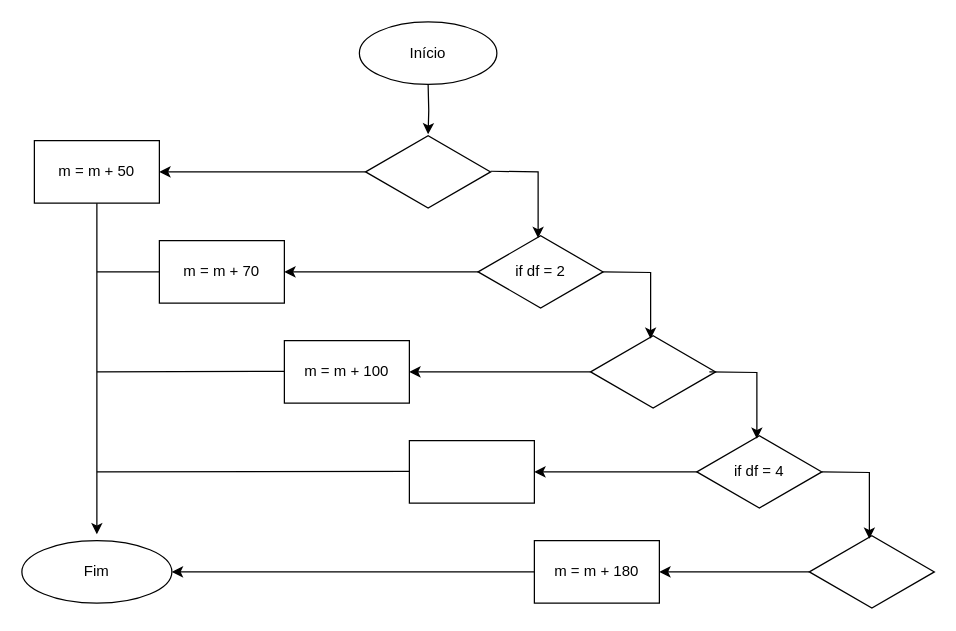
Some shapes in this 956 by 631 pixel diagram are drawn without their labels. The shapes that lost their labels are listed below. From the top down, each one's centre as x and y in pixels, then its label:
point (427, 171): if df = 1
point (652, 371): if df = 3
point (471, 471): m = m + 130
point (871, 571): if df = 5
